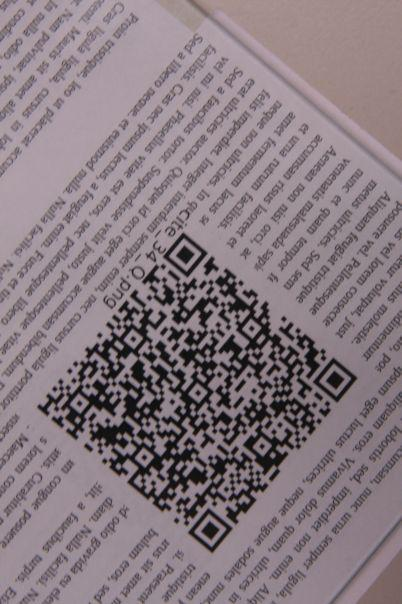Finder pattern: (313, 356, 364, 406), (186, 505, 236, 555), (165, 232, 210, 279)
